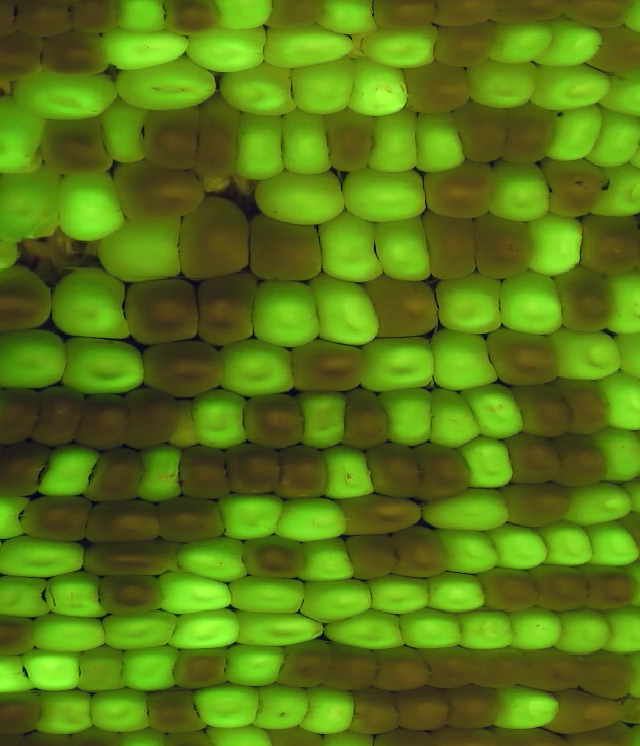fluorescent: (50, 266, 135, 338), (98, 218, 189, 282), (250, 168, 348, 224), (15, 71, 120, 123), (336, 167, 432, 221), (59, 166, 126, 243), (110, 62, 217, 110), (217, 336, 302, 396), (63, 335, 149, 394), (308, 278, 379, 346), (252, 280, 320, 349), (422, 326, 500, 386), (0, 168, 62, 241), (497, 270, 565, 335), (370, 213, 432, 284), (436, 273, 510, 332), (360, 336, 442, 388), (0, 330, 71, 390), (486, 160, 557, 220), (319, 215, 383, 281), (218, 65, 299, 117), (524, 64, 617, 108), (264, 25, 356, 69), (554, 325, 628, 379), (0, 533, 90, 577), (362, 105, 421, 171), (287, 62, 357, 116), (174, 536, 256, 582), (423, 489, 516, 529), (349, 58, 413, 116), (542, 101, 606, 159), (466, 59, 540, 109), (0, 93, 47, 171), (101, 30, 188, 72), (100, 606, 184, 649), (190, 393, 252, 451), (209, 492, 283, 540), (232, 607, 328, 644), (98, 95, 148, 165), (413, 109, 466, 175), (522, 213, 582, 271), (376, 387, 436, 445), (296, 388, 353, 449), (432, 526, 507, 572), (234, 111, 288, 174), (36, 443, 99, 497), (465, 383, 527, 437), (29, 610, 108, 652), (323, 610, 408, 649), (552, 604, 612, 659), (272, 497, 351, 538), (192, 683, 262, 729), (360, 29, 440, 69), (156, 574, 236, 614), (281, 112, 334, 172), (495, 685, 564, 731), (458, 438, 520, 489), (86, 685, 153, 732), (430, 385, 480, 447), (168, 608, 240, 651), (322, 442, 377, 498), (48, 571, 108, 622), (227, 578, 312, 614), (186, 31, 268, 68), (398, 608, 467, 651), (219, 643, 288, 686), (543, 19, 600, 71), (138, 445, 189, 503), (254, 681, 313, 731), (296, 536, 360, 582), (18, 649, 86, 692), (297, 579, 371, 618), (594, 105, 640, 167), (507, 606, 569, 652), (300, 686, 358, 734), (564, 485, 639, 522), (34, 688, 96, 732), (121, 644, 180, 690), (490, 524, 550, 569), (584, 519, 640, 566), (457, 608, 518, 651), (595, 426, 640, 484), (590, 65, 640, 117), (590, 164, 640, 216), (499, 20, 553, 67), (540, 520, 596, 565), (0, 576, 54, 621), (78, 646, 127, 695), (426, 574, 489, 611), (600, 372, 640, 430), (602, 273, 640, 332), (317, 1, 383, 32), (367, 579, 433, 610), (213, 1, 278, 31), (599, 608, 640, 655), (113, 1, 166, 36), (0, 488, 34, 539), (0, 651, 33, 691)
nonfluorescent: (180, 197, 255, 282), (248, 214, 329, 282), (363, 273, 444, 339), (125, 277, 205, 343), (117, 161, 205, 219), (138, 340, 223, 396), (533, 156, 612, 215), (422, 161, 502, 219), (550, 264, 617, 332), (197, 277, 262, 347), (486, 328, 561, 387), (39, 115, 112, 175), (421, 211, 482, 281), (287, 340, 366, 392), (145, 103, 206, 169), (579, 212, 640, 276), (451, 99, 512, 162), (473, 215, 534, 277), (198, 95, 245, 174), (402, 63, 473, 115), (338, 493, 428, 534), (86, 498, 164, 545), (510, 381, 573, 439), (0, 266, 57, 330), (527, 559, 594, 613), (323, 110, 383, 170), (244, 393, 309, 448), (123, 388, 180, 449), (26, 493, 95, 543), (81, 385, 133, 451), (81, 539, 176, 575), (549, 690, 625, 735), (35, 386, 88, 450), (155, 495, 230, 540), (87, 446, 146, 503), (413, 442, 473, 498), (339, 385, 391, 448), (365, 440, 423, 496), (502, 103, 557, 162), (222, 443, 282, 497), (557, 377, 612, 434), (475, 567, 543, 613), (501, 484, 575, 526), (142, 691, 214, 734), (520, 646, 587, 692), (326, 638, 383, 692), (504, 434, 564, 485), (40, 31, 114, 72), (276, 445, 332, 499), (576, 650, 636, 700), (177, 444, 234, 496), (578, 563, 640, 609), (95, 572, 165, 612), (553, 435, 609, 484), (390, 688, 451, 732), (0, 441, 47, 498), (376, 648, 434, 694), (422, 644, 479, 690), (433, 27, 497, 67), (282, 639, 331, 691), (350, 690, 405, 734), (174, 648, 233, 689), (440, 686, 499, 727), (476, 645, 526, 692), (0, 384, 39, 444), (392, 530, 442, 576), (344, 538, 399, 579), (242, 540, 302, 577), (429, 1, 505, 29), (591, 30, 640, 73), (487, 1, 570, 26), (562, 1, 636, 29), (0, 690, 45, 735), (0, 33, 46, 77), (374, 1, 438, 32), (18, 1, 73, 36), (0, 610, 37, 657), (166, 1, 221, 32), (71, 1, 125, 32), (263, 1, 323, 26)
